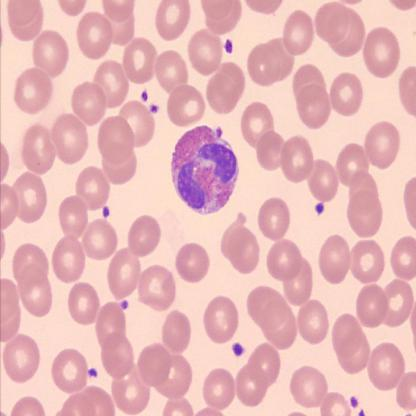Eosinophil: (171, 124, 238, 214)
